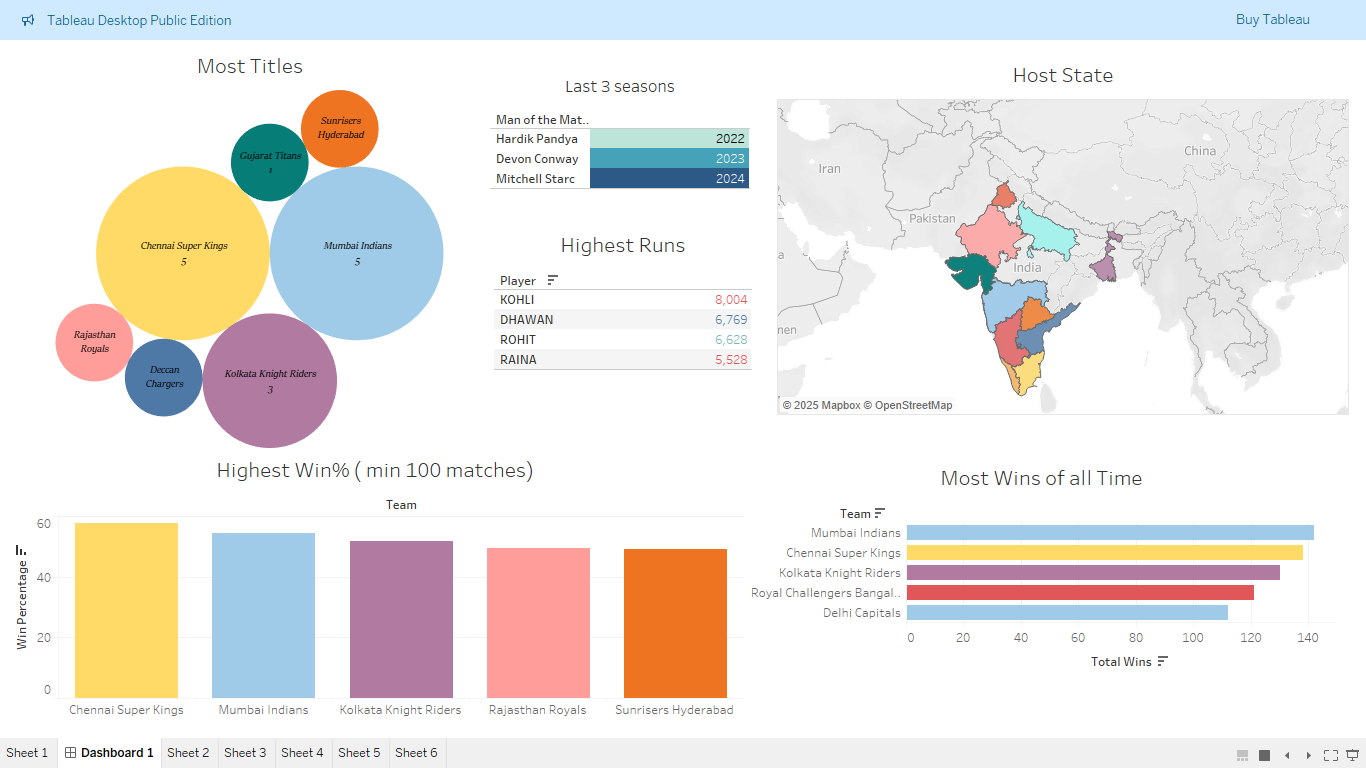

The dashboard page shown, as its layout file describes it:
{"tool":"tableau","page":{"name":"Dashboard 1","canvas":[1000,1000],"units":"permille","ordinal":0},"visuals":[{"type":"worksheet","title":"Sheet 5","mark":"Circle","box":[9.7,10.7,347,574.7]},{"type":"worksheet","title":"Sheet 1","mark":"Multipolygon","box":[568.8,23.1,419.1,514.2]},{"type":"worksheet","title":"Sheet 4","mark":"Square","rows":["Man of the Match (Final)"],"box":[358.6,42.7,190.2,250.9]},{"type":"worksheet","title":"Sheet 6","mark":"Automatic","rows":["PLAYER"],"box":[361.4,266.9,189.2,263.4]},{"type":"worksheet","title":"Sheet 3","mark":"Automatic","rows":["Win Percentage"],"cols":["Team"],"box":[4.7,589,540.2,411]}]}

Visuals, with their boxes on the dashboard's canvas, which has no fixed pixel size, in thousandths of its width and height (x1, y1, x2, y2). These are canvas units, not pixel positions in the 1366x768 screenshot, which may show the page scaled, cropped or inside an application window:
"Sheet 5" worksheet (Circle marks): 10:11:357:585
"Sheet 1" worksheet (Multipolygon marks): 569:23:988:537
"Sheet 4" worksheet (Square marks): 359:43:549:294
"Sheet 6" worksheet: 361:267:551:530
"Sheet 3" worksheet: 5:589:545:1000
